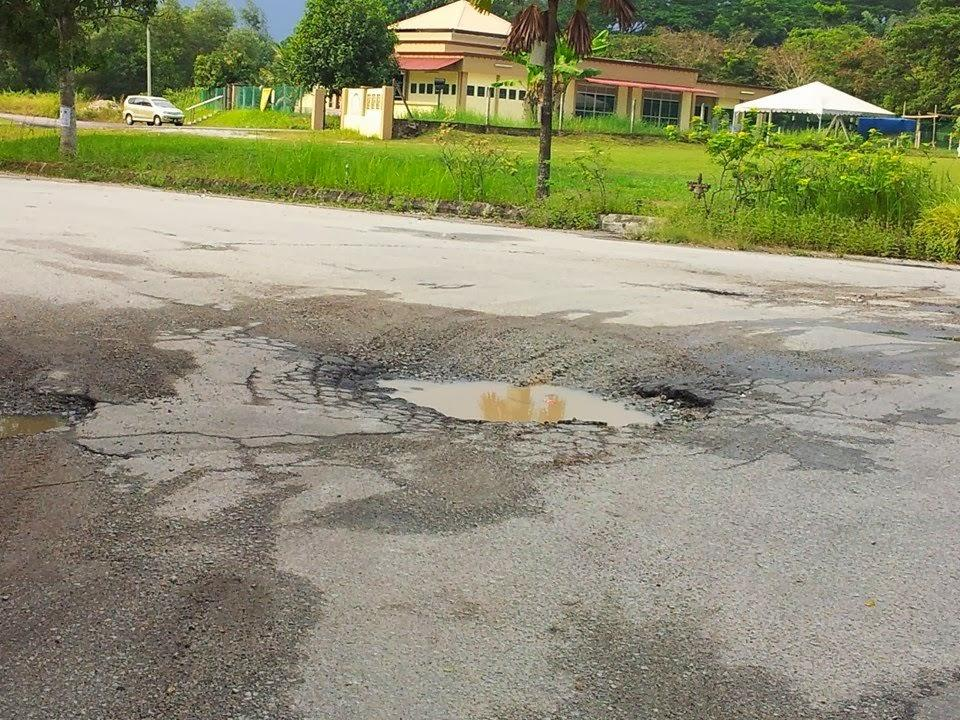Pothole: (313, 335, 726, 458), (0, 361, 108, 461), (837, 279, 960, 356), (641, 279, 750, 313)
